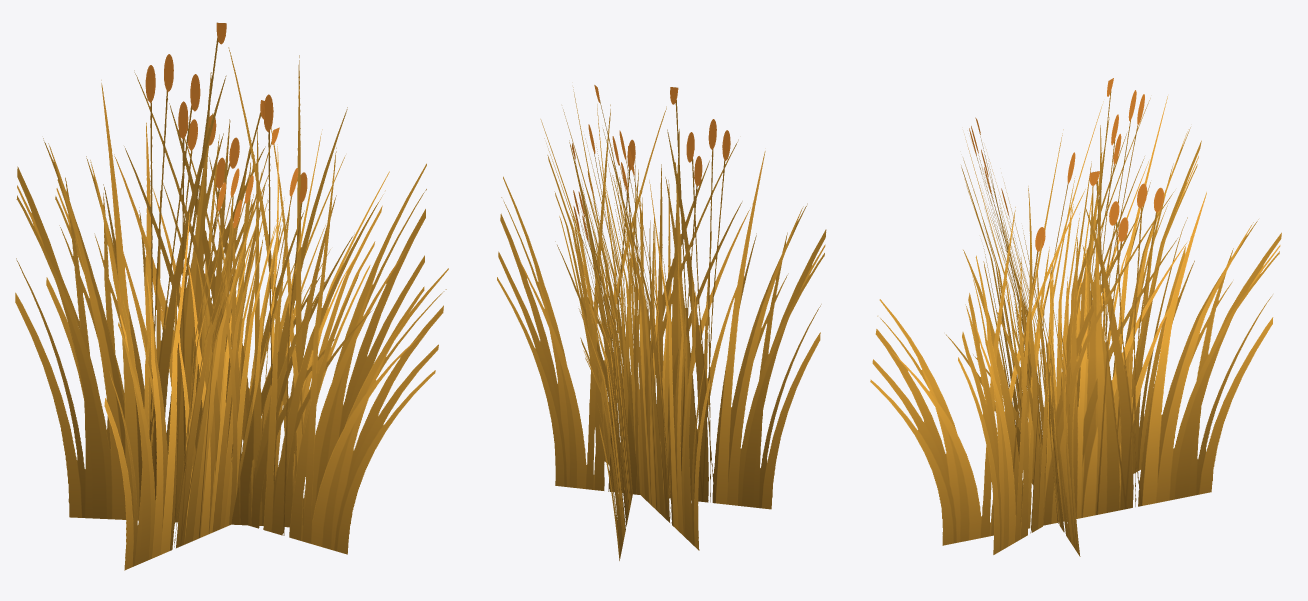
Rendered from savanna_grass_1_burnt1.glb.
3 views of the same model, side by side, from view 1: azimuth 30°, elevation 25°; view 2: azimuth 150°, elevation 25°; view 3: azimuth 270°, elevation 25° (orthographic). The views are drawn at different scales.
Visible parts, largest first — view 1: savanna_grass_1_burnt1; view 2: savanna_grass_1_burnt1; view 3: savanna_grass_1_burnt1.
Boxes of the visible parts, <box> form: savanna_grass_1_burnt1: <box>15,22,448,570</box>; savanna_grass_1_burnt1: <box>497,85,826,560</box>; savanna_grass_1_burnt1: <box>870,78,1281,556</box>.
Size of the model in its own units: 0.7507 by 1.02 by 0.8822.
1 material, 1 textured.
